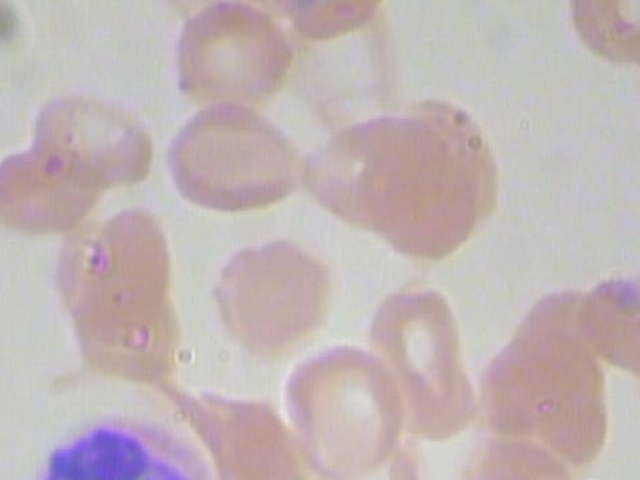RBC: (349, 115, 498, 266), (361, 272, 487, 443), (272, 341, 417, 479), (162, 92, 313, 221), (206, 230, 344, 357), (160, 0, 308, 115), (17, 86, 161, 190), (0, 135, 117, 236), (570, 254, 640, 379), (263, 0, 415, 40), (565, 0, 640, 65)
WBC: (21, 412, 220, 480)
